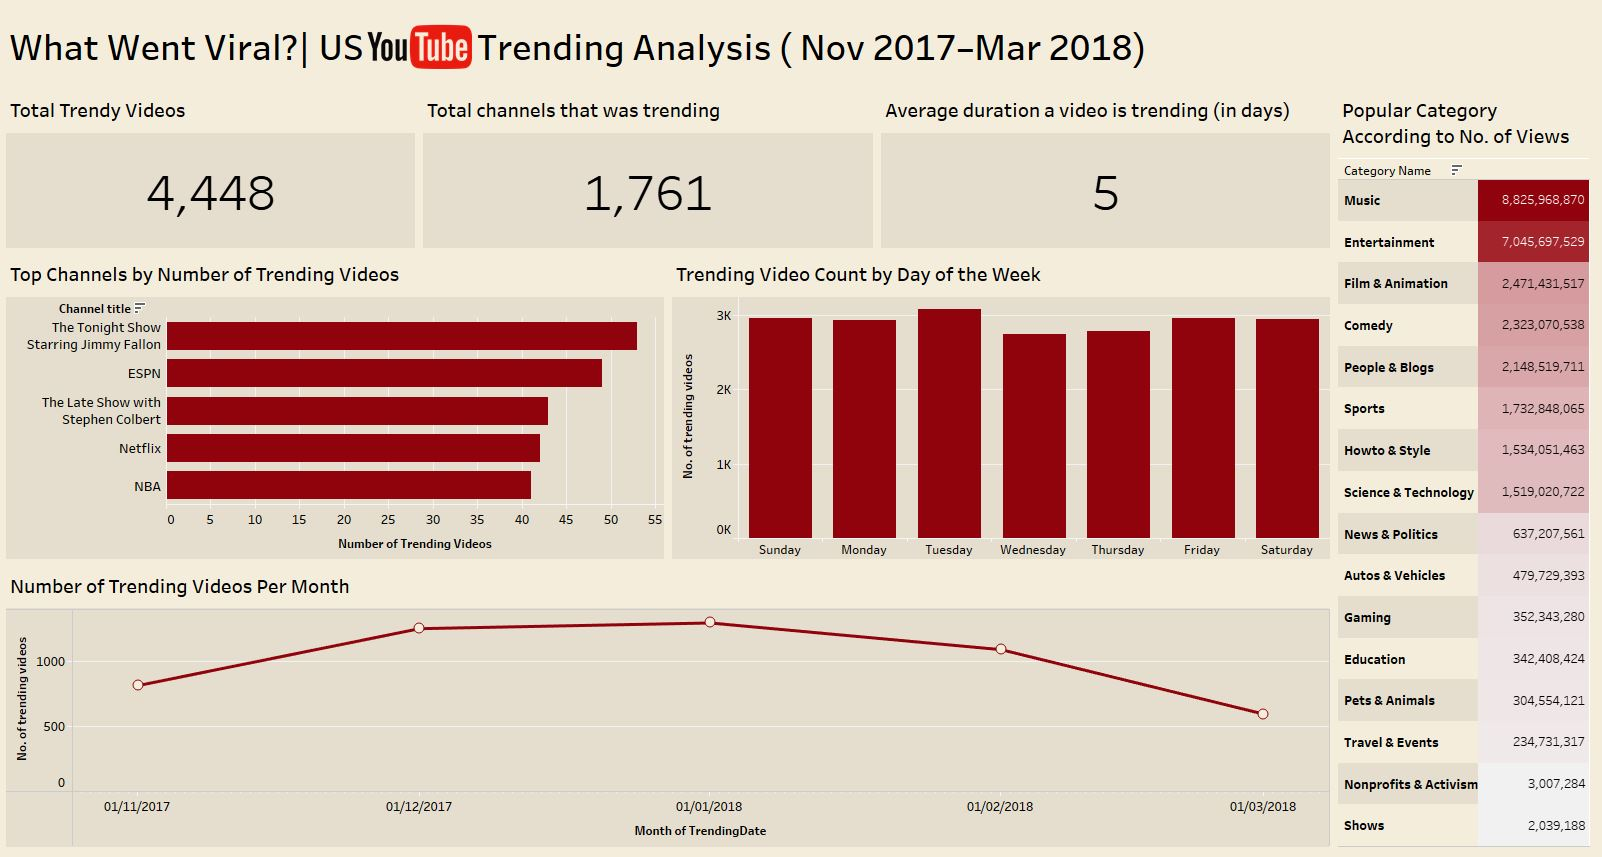

The dashboard page shown, as its layout file describes it:
{"tool":"tableau","page":{"name":"What Went Viral?| US               Trending Analysis ( Nov 2017–Mar 2018)","canvas":[1000,1000],"units":"permille","ordinal":0},"visuals":[{"type":"title","box":[5,9.3,990,98.4]},{"type":"image","param":"C:/Users/user/Downloads/pngwing.com.png","box":[232,33.6,89.5,52.1]},{"type":"worksheet","title":"Sum of trendy videos","mark":"Automatic","box":[5,107.6,259.3,190]},{"type":"worksheet","title":"Total channels that was trending","mark":"Automatic","box":[264.3,107.6,284.8,190]},{"type":"worksheet","title":"Average duration a video is trending (in days)","mark":"Automatic","box":[549.1,107.6,284.1,190]},{"type":"worksheet","title":"Popular Category According to No. of Views","mark":"Square","rows":["Category Name"],"box":[833.2,107.6,161.8,883.1]},{"type":"worksheet","title":"Top Channels by Number of Trending Videos","mark":"Automatic","rows":["Channel_title"],"cols":["title"],"box":[5,297.7,414.1,360.5]},{"type":"worksheet","title":"Trending Video Count by Day of the Week","mark":"Bar","rows":["title"],"cols":["F5"],"box":[419.1,297.7,414.1,360.5]},{"type":"worksheet","title":"Number of Trending Videos Per Month","mark":"Automatic","rows":["title","title"],"cols":["F5"],"box":[5,658.2,828.3,332.6]}]}

Visuals, with their boxes on the dashboard's canvas, which has no fixed pixel size, in thousandths of its width and height (x1, y1, x2, y2). These are canvas units, not pixel positions in the 1602x857 screenshot, which may show the page scaled, cropped or inside an application window:
title: l=5, t=9, r=995, b=108
image: l=232, t=34, r=322, b=86
"Sum of trendy videos" worksheet: l=5, t=108, r=264, b=298
"Total channels that was trending" worksheet: l=264, t=108, r=549, b=298
"Average duration a video is trending (in days)" worksheet: l=549, t=108, r=833, b=298
"Popular Category According to No. of Views" worksheet (Square marks): l=833, t=108, r=995, b=991
"Top Channels by Number of Trending Videos" worksheet: l=5, t=298, r=419, b=658
"Trending Video Count by Day of the Week" worksheet (Bar marks): l=419, t=298, r=833, b=658
"Number of Trending Videos Per Month" worksheet: l=5, t=658, r=833, b=991
